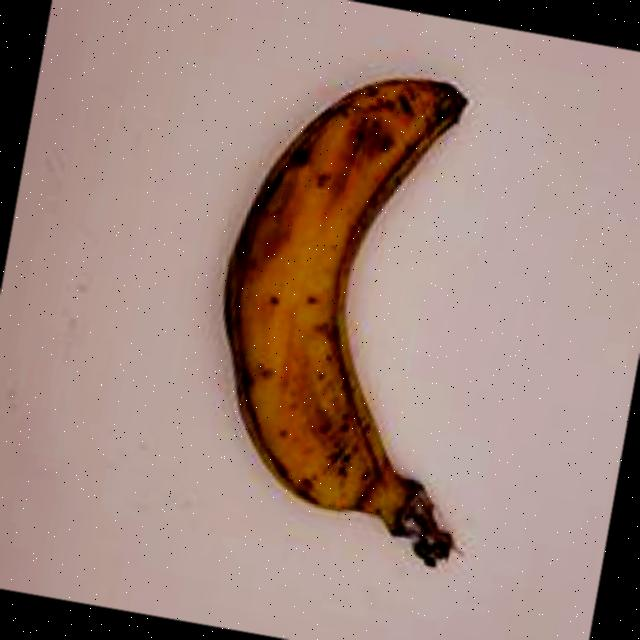Overripe: (140, 19, 570, 594)
